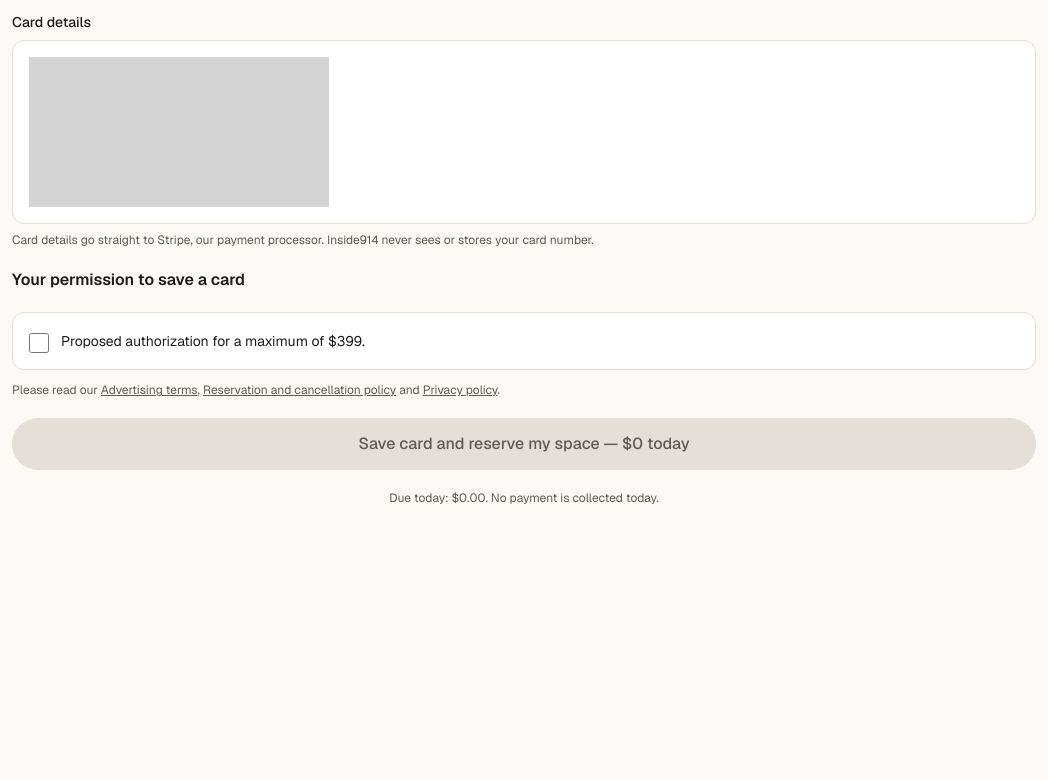
Test: PaymentStep › still-processing setups wait for the webhook instead of pretending
This screenshot has width=1048, height=780.
Click the checkbox.
click(39, 343)  # box [29,333,49,353]
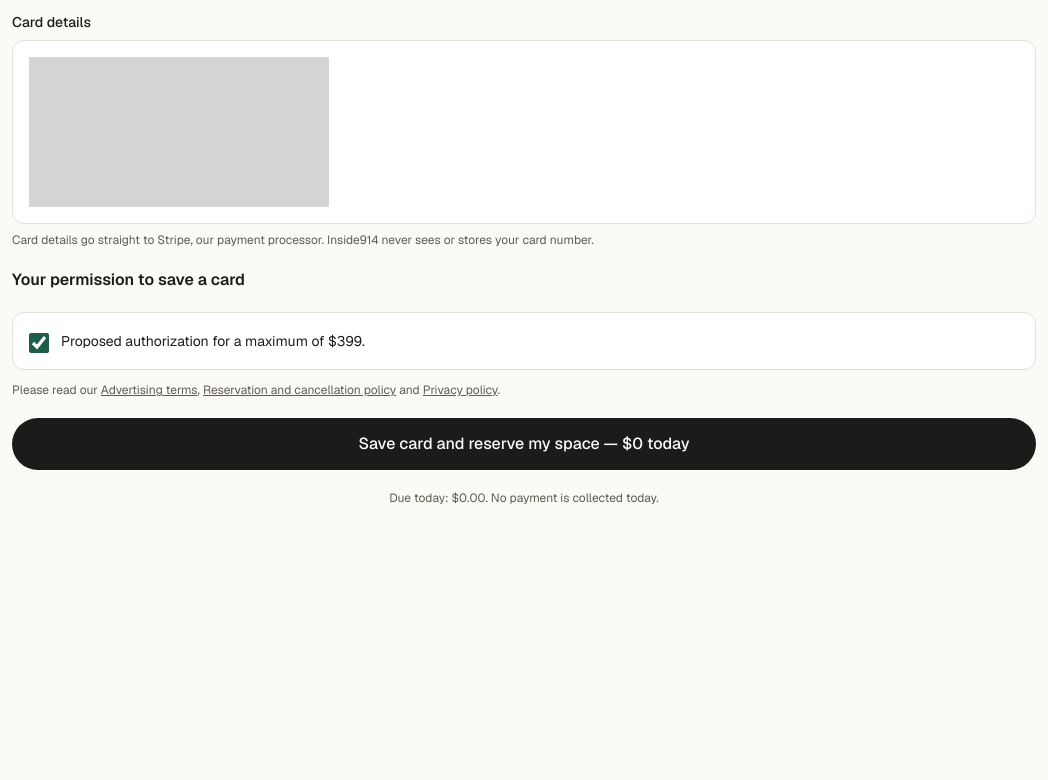
Click the button "Save card and reserve my space — $0 today".
click(524, 444)  # box [12,418,1036,470]
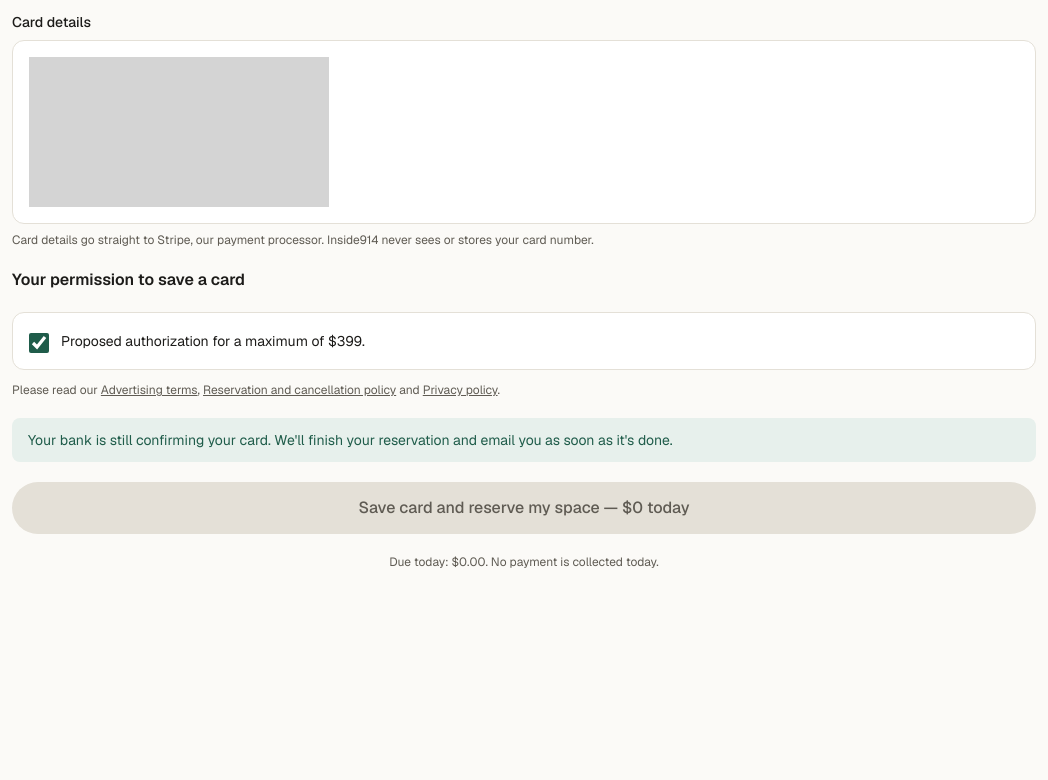
Expected: the message shows "still confirming", [28,431,673,449]
